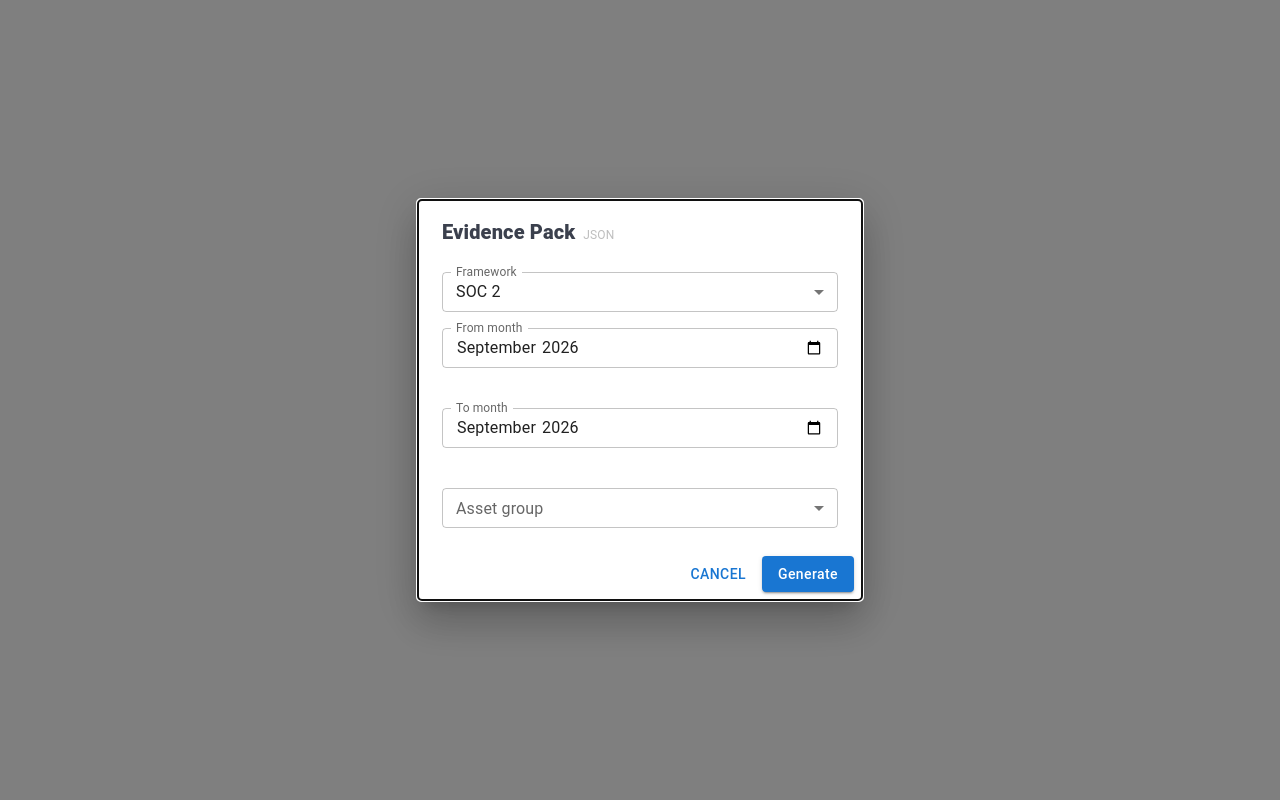
Scenario: ReportParamsDialog › no envía con el periodo al revés y enseña el error
The image size is (1280, 800).
expect the dropdown named "Framework" reads "SOC 2": met, box [456, 282, 501, 301]
Replace the text in the field labelled "From month" with "2026-08": [640, 348] box [442, 328, 838, 368]
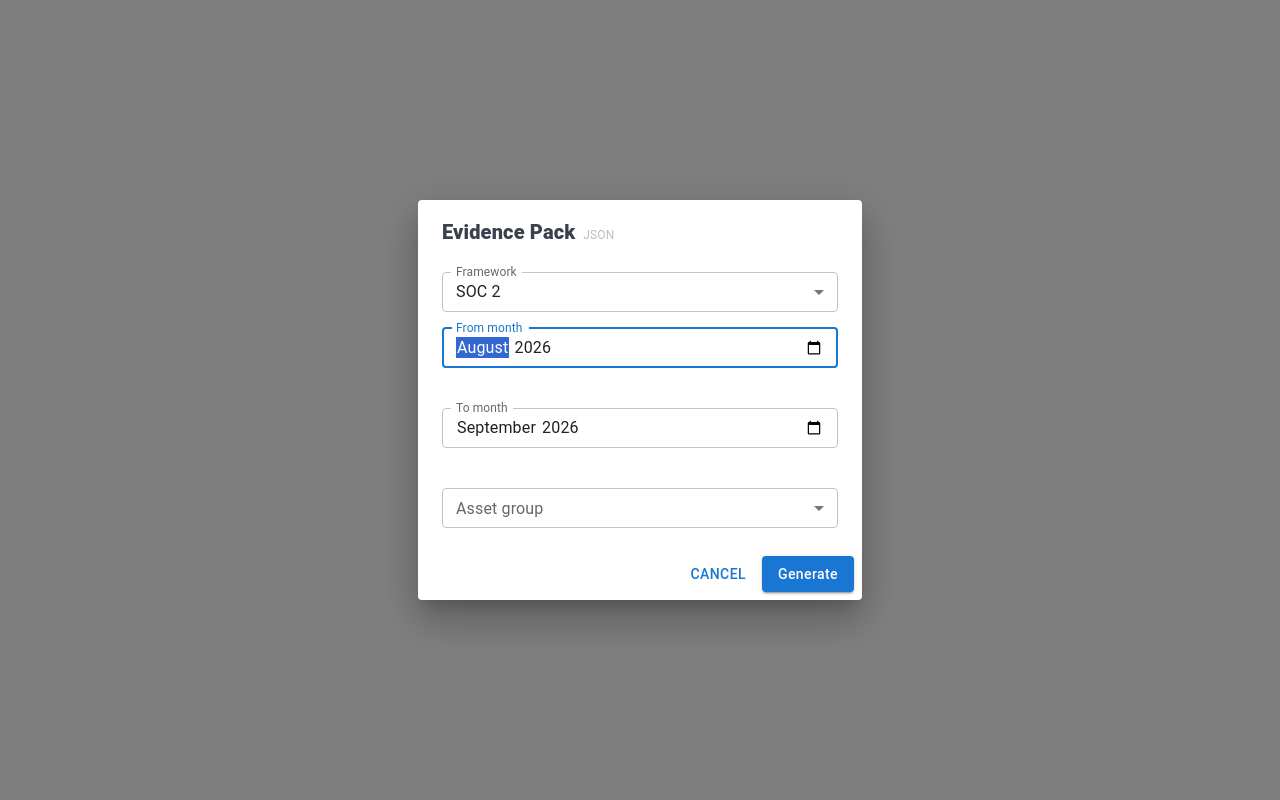
Replace the text in the field labelled "To month" with "2026-01": [640, 428] box [442, 408, 838, 448]
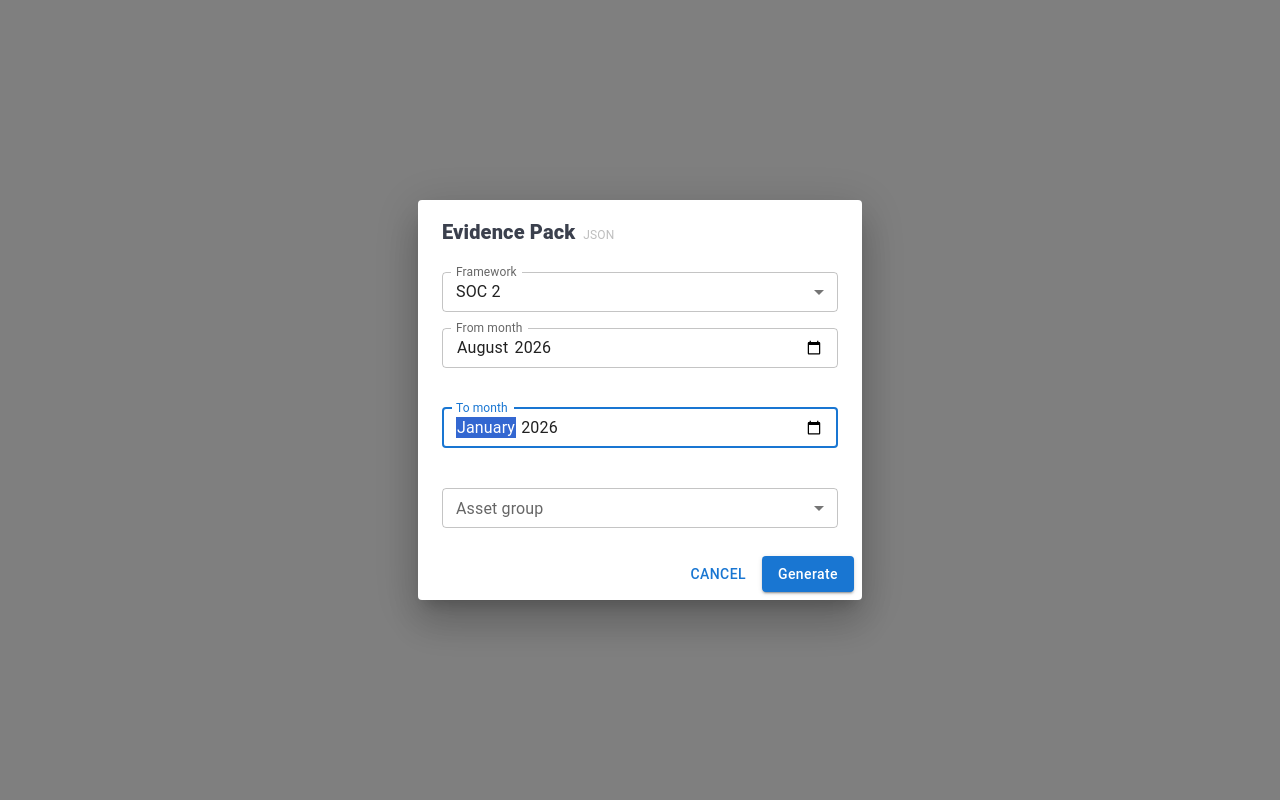
Click the button "Generate": [808, 574] box [762, 556, 854, 592]
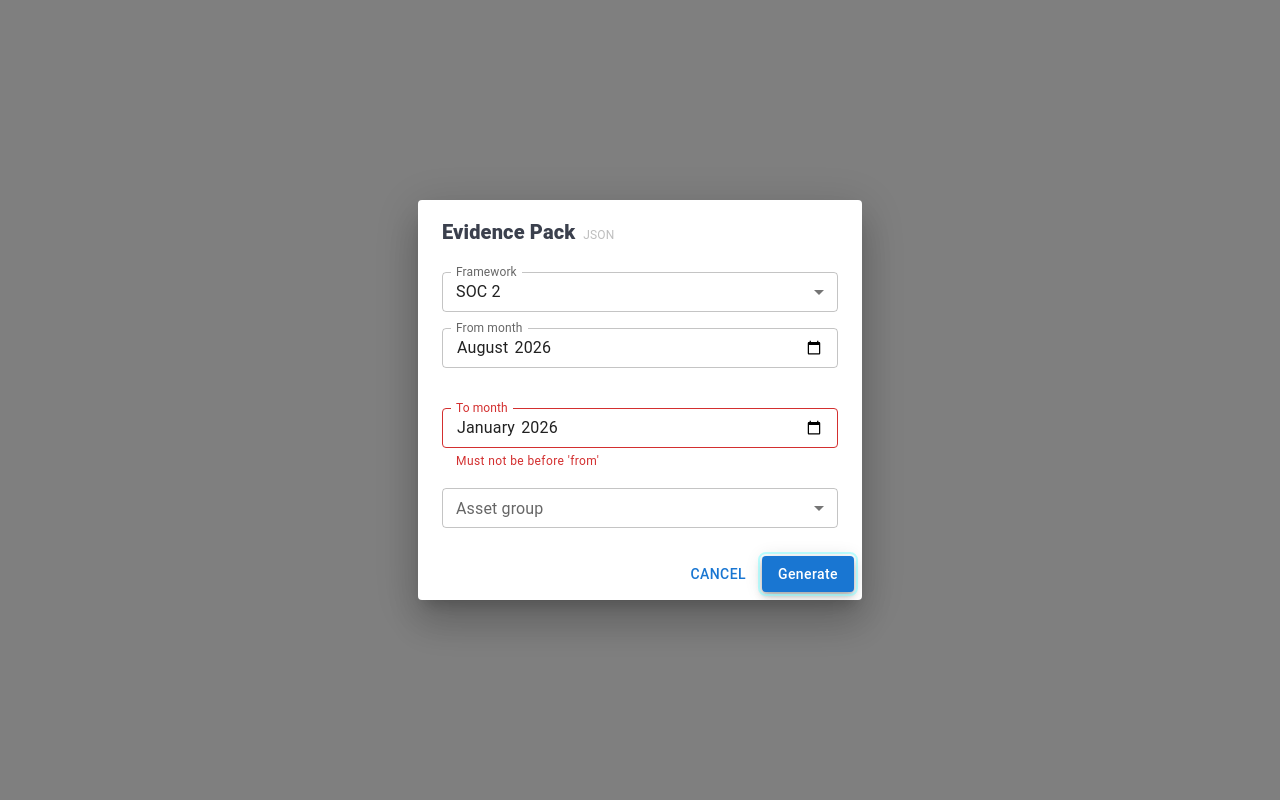
expect the text "Must not be before 'from'" is shown: met, box [456, 454, 599, 468]
